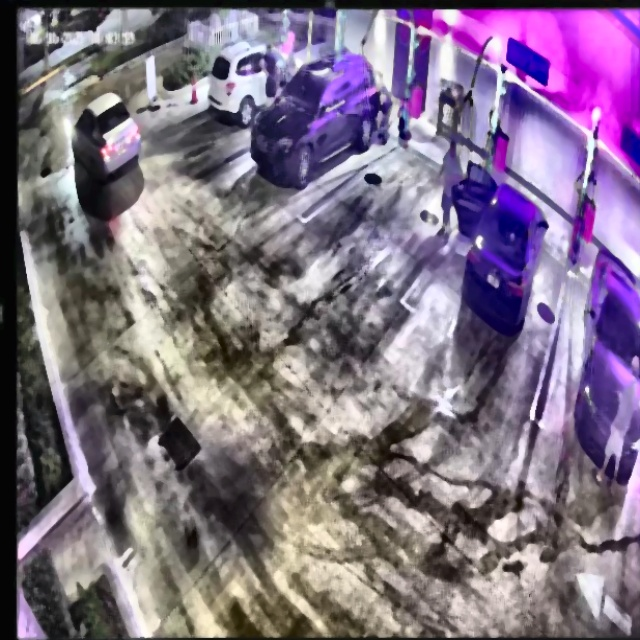Car: (253, 53, 381, 183), (450, 159, 546, 329), (72, 89, 141, 177)
